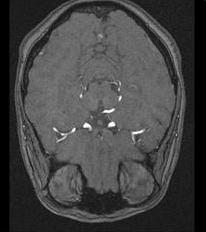Normal_Brain: (1, 1, 205, 232)
